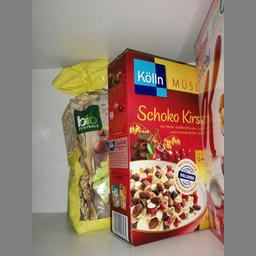cereal: (106, 48, 212, 247), (64, 92, 106, 234)
